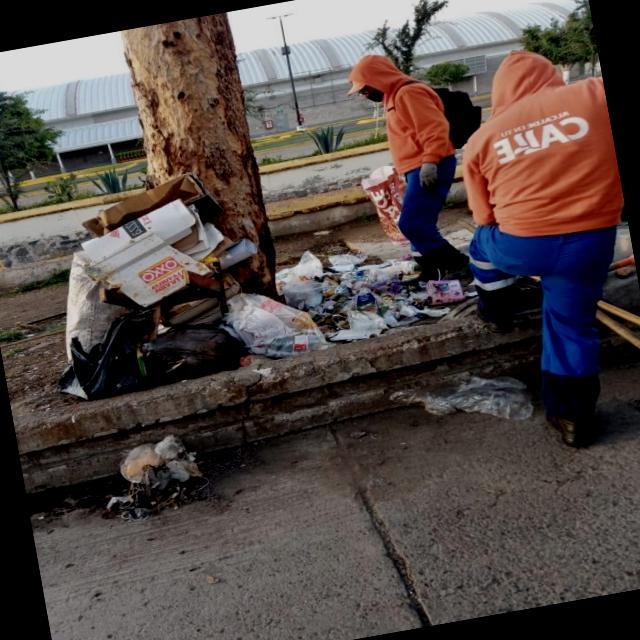garbage: (0, 135, 456, 412), (82, 425, 218, 533)
